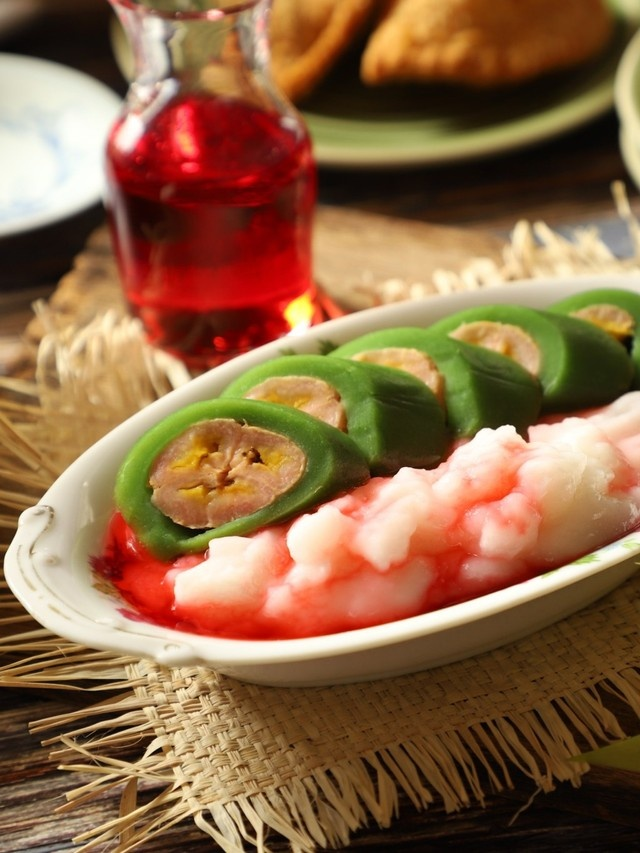pisang_ijo: (122, 403, 341, 551)
